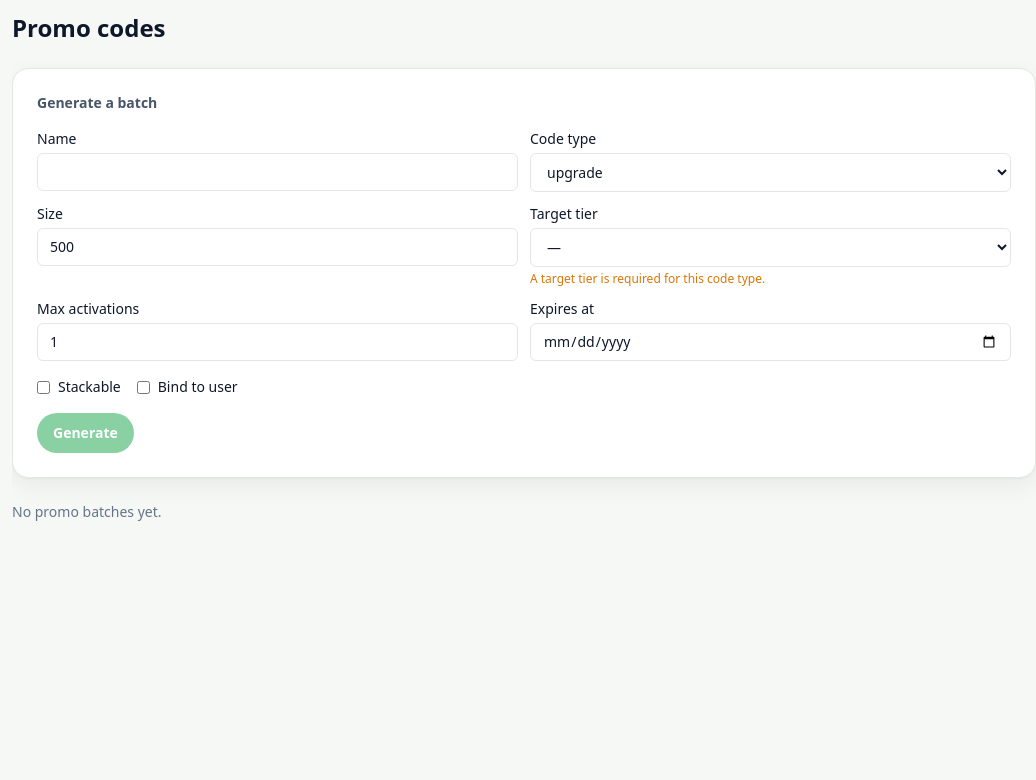
Scenario: PromoView › requires a tier for upgrade codes
The width and height of the screenshot is (1036, 780).
Type "X" into the field labelled "Name" at (278, 172), box top-left (37, 153), bottom-right (518, 191)
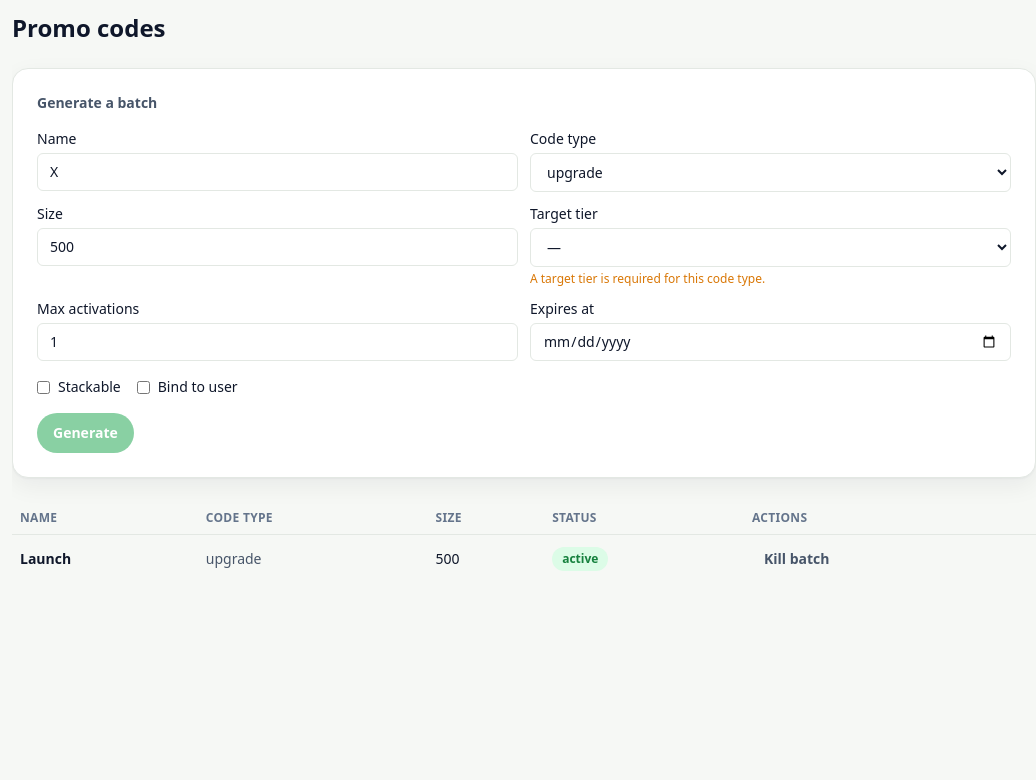
Expected: the button "Generate" is disabled, top-left (37, 413), bottom-right (134, 453)
Select "pro" in the dropdown labelled "Target tier" at (770, 248), box top-left (530, 228), bottom-right (1011, 267)
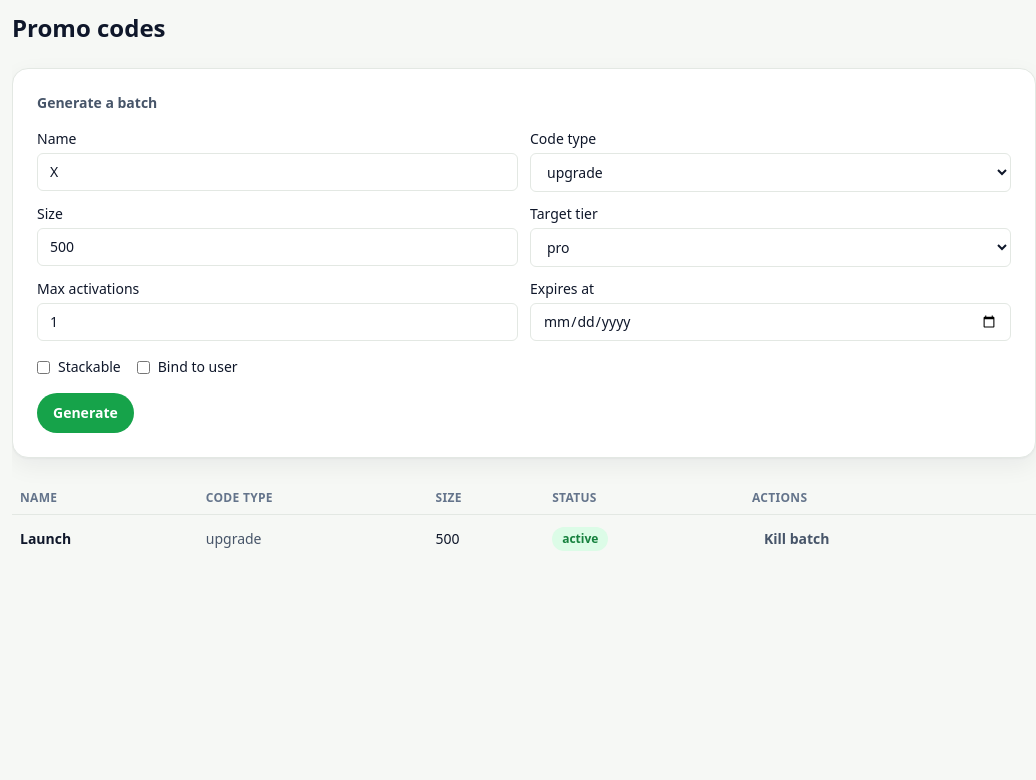
Result: the button "Generate" is enabled at top-left (37, 393), bottom-right (134, 433)
